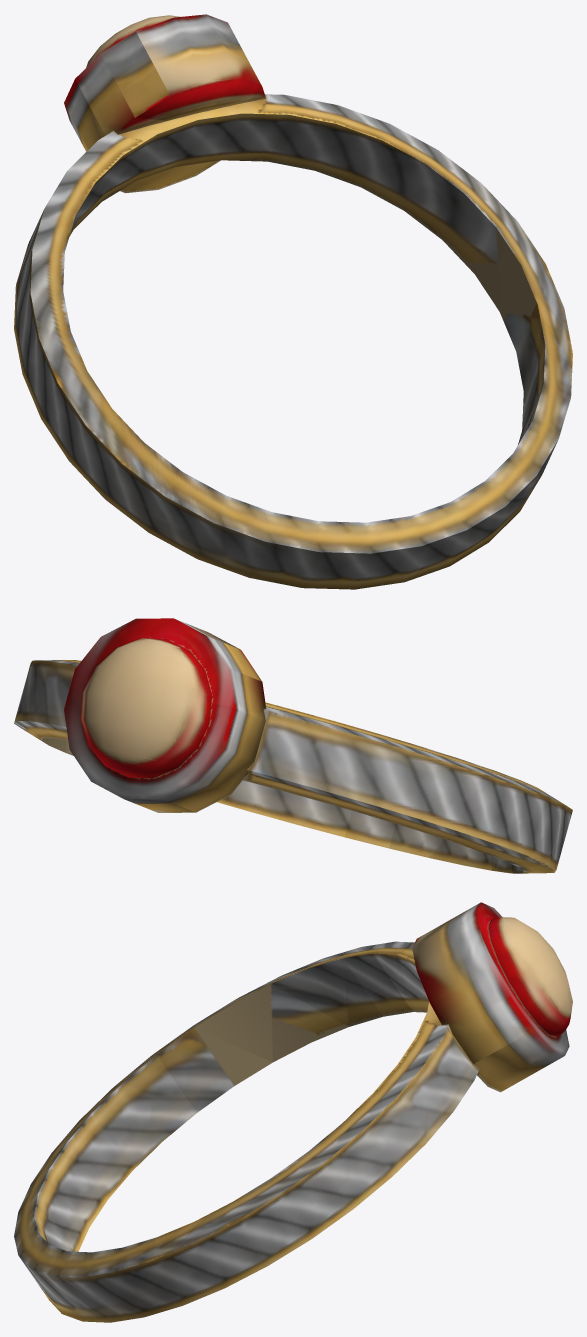
The model's file is item_mm9_10222.glb.
3 views of the same model, one above another, from view 1: azimuth 30°, elevation 25°; view 2: azimuth 150°, elevation 25°; view 3: azimuth 270°, elevation 25° (orthographic). The views are drawn at different scales.
Visible parts, largest first — view 1: d10222; view 2: d10222; view 3: d10222.
Part boxes in pixels (<box>): d10222: <box>14,14,572,589</box>; d10222: <box>14,618,572,873</box>; d10222: <box>14,902,572,1322</box>.
Bounding box in the file's own units: 27.13 × 21 × 28.8.
1 material, 1 textured.
